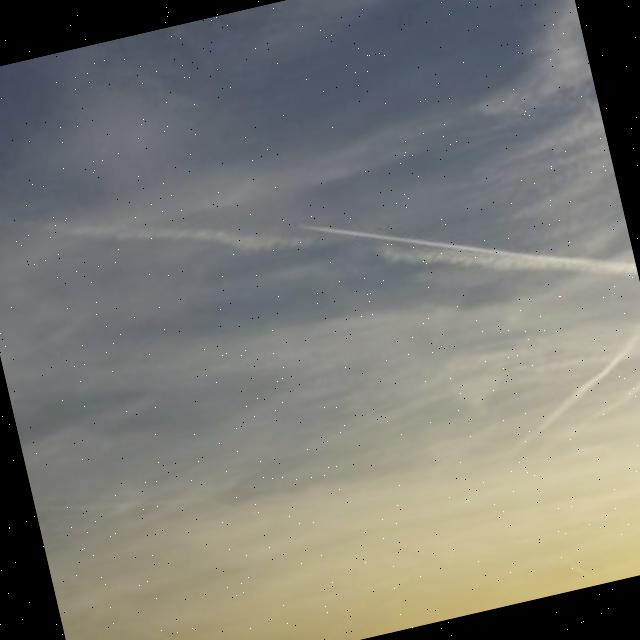Ct: (1, 1, 640, 590)
